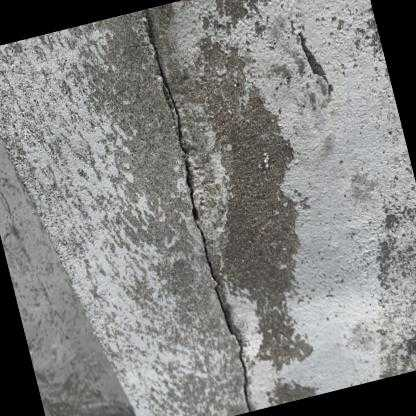crack: (148, 23, 251, 412)
